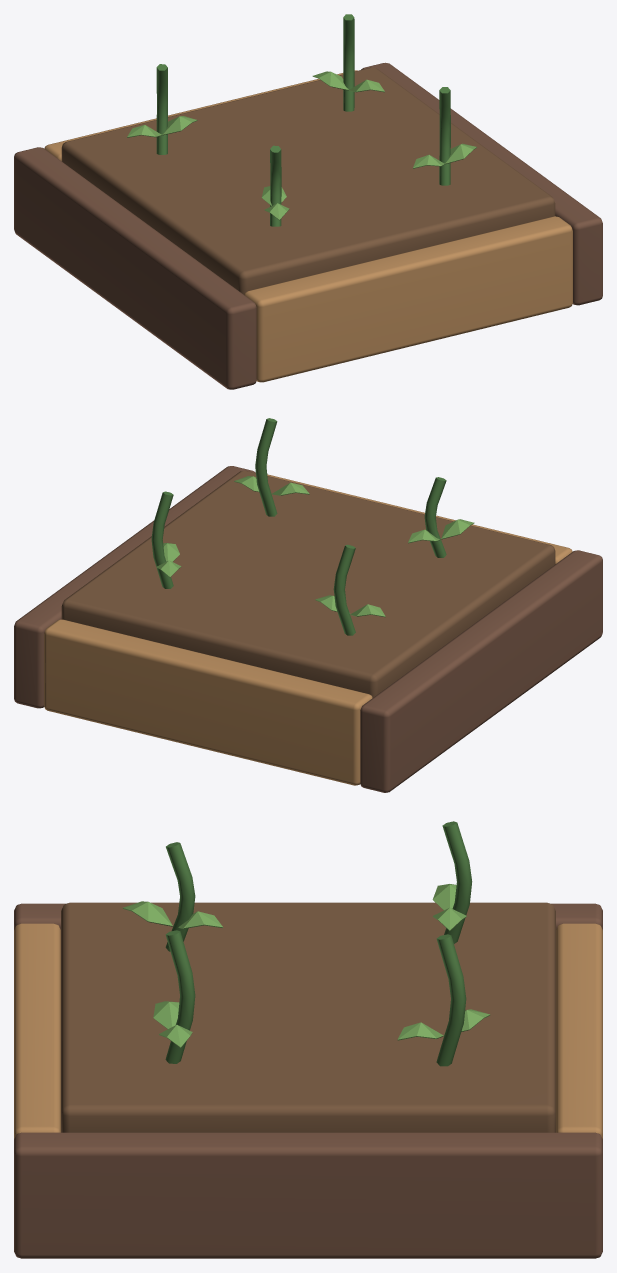
Rendered from garden.herb.mint-sprout.glb.
The picture shows the model from 3 angles, top to bottom: view 1: azimuth 30°, elevation 25°; view 2: azimuth 150°, elevation 25°; view 3: azimuth 270°, elevation 25°; orthographic projection. The views are drawn at different scales.
Parts seen in each view (by area): view 1: Cedar raised bed rail; view 2: Cedar raised bed rail; view 3: Cedar raised bed rail.
Boxes of the visible parts, x1,y1,x2,y2 form: Cedar raised bed rail: (14, 14, 602, 389); Cedar raised bed rail: (14, 418, 602, 792); Cedar raised bed rail: (14, 821, 602, 1258).
Bounding box in the file's own units: 1 × 0.4927 × 1.
